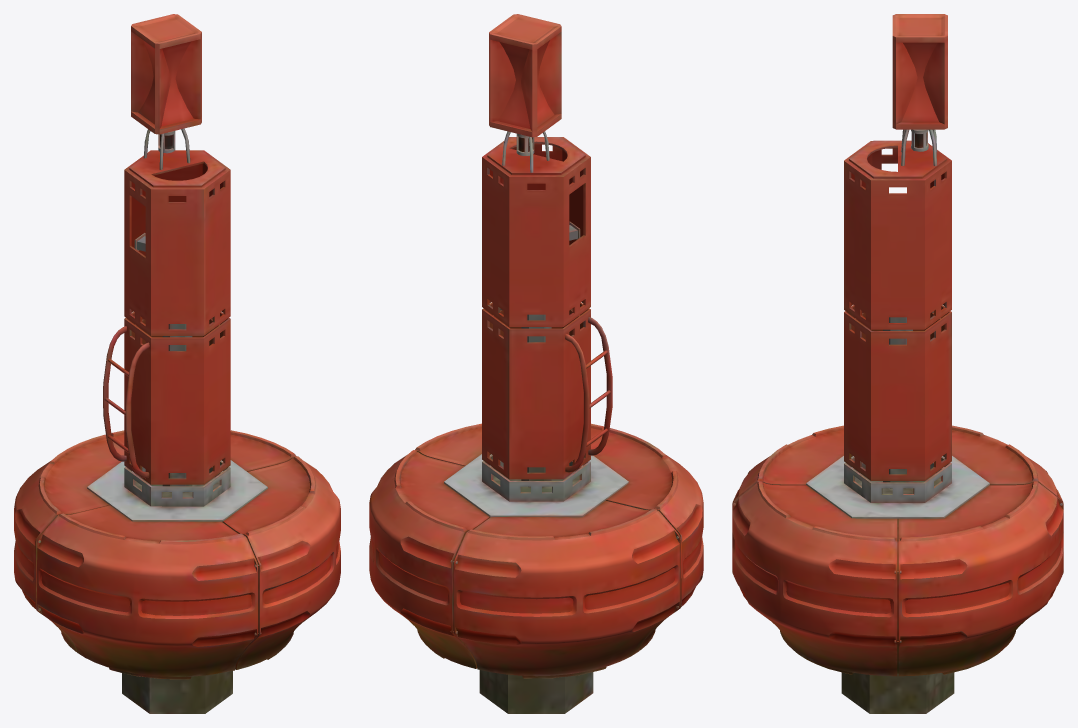
Rendered from marker.glb.
3 views of the same model, side by side, from view 1: azimuth 30°, elevation 25°; view 2: azimuth 150°, elevation 25°; view 3: azimuth 270°, elevation 25° (orthographic). The views are drawn at different scales.
Visible parts, largest first — view 1: lateral_sea_marker; view 2: lateral_sea_marker; view 3: lateral_sea_marker.
Boxes of the visible parts, x1,y1,x2,y2 form: lateral_sea_marker: (14, 14, 340, 713); lateral_sea_marker: (369, 14, 703, 713); lateral_sea_marker: (732, 14, 1063, 713).
Bounding box in the file's own units: 3 × 6.84 × 3.
1 material, 1 textured.
